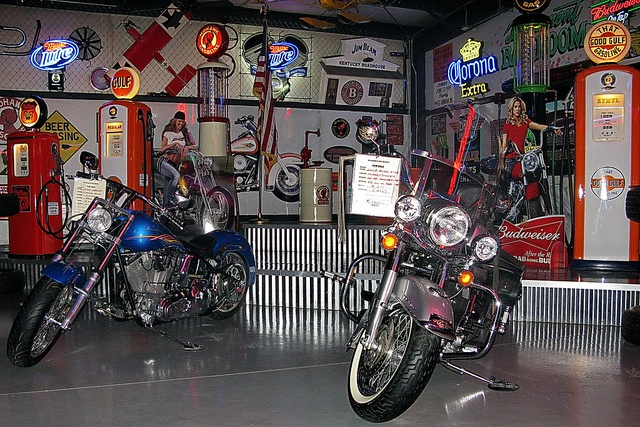non-vehicle: (0, 145, 258, 368), (317, 149, 525, 424), (475, 123, 565, 223), (149, 148, 235, 230)
